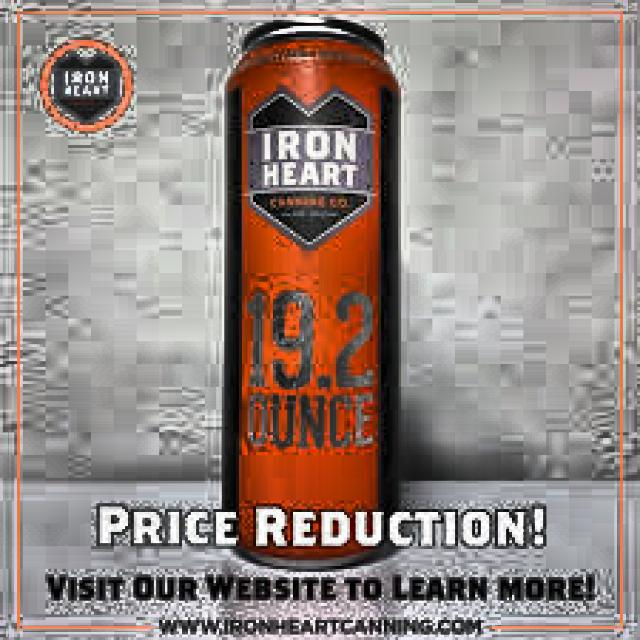can: (221, 12, 408, 569)
